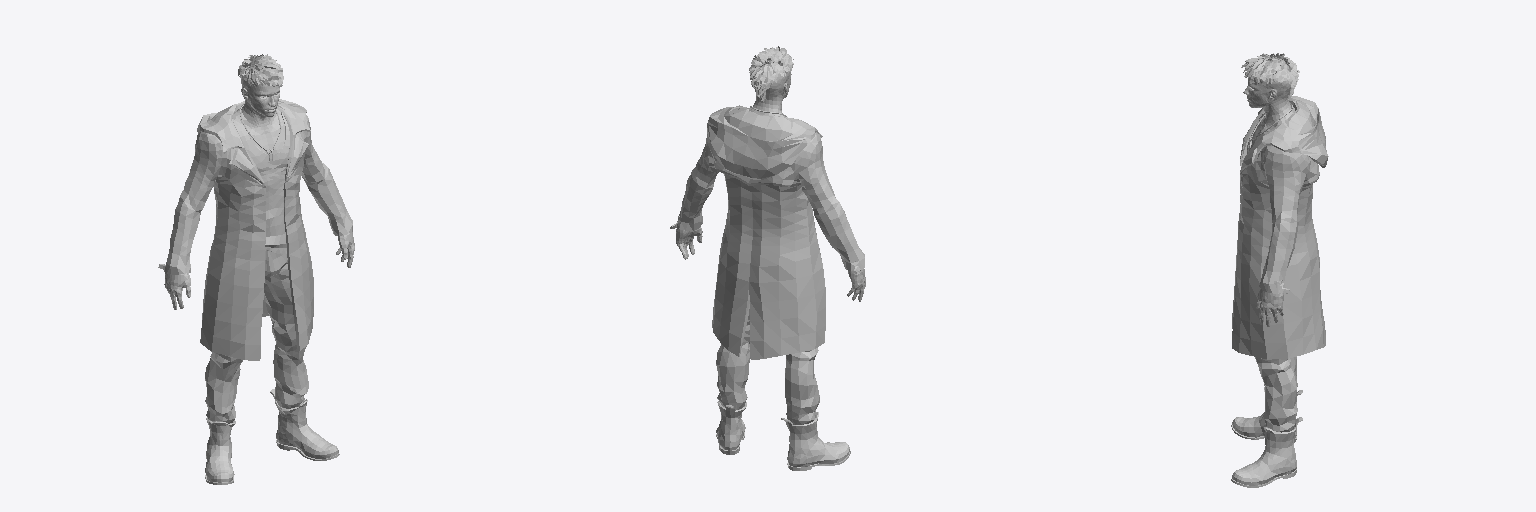
File: Vampire.obj
3 renders of one model, left to right at view 1: azimuth 30°, elevation 25°; view 2: azimuth 150°, elevation 25°; view 3: azimuth 270°, elevation 25°, orthographic.
Visible parts, largest first — view 1: rdmobj01.004, rdmobj02.004, rdmobj00.004, rdmobj04.004, rdmobj07.004, rdmobj03.004; view 2: rdmobj01.004, rdmobj02.004, rdmobj07.004, rdmobj04.004, rdmobj00.004; view 3: rdmobj01.004, rdmobj02.004, rdmobj04.004, rdmobj07.004, rdmobj00.004.
Part boxes in pixels (left/top/right/bottom): rdmobj01.004: left=158, top=99, right=352, bottom=360; rdmobj02.004: left=205, top=250, right=339, bottom=484; rdmobj00.004: left=164, top=104, right=354, bottom=297; rdmobj04.004: left=234, top=66, right=282, bottom=131; rdmobj07.004: left=238, top=54, right=283, bottom=87; rdmobj03.004: left=171, top=109, right=353, bottom=309; rdmobj01.004: left=670, top=105, right=864, bottom=359; rdmobj02.004: left=716, top=309, right=850, bottom=470; rdmobj07.004: left=749, top=46, right=793, bottom=101; rdmobj04.004: left=747, top=73, right=791, bottom=116; rdmobj00.004: left=676, top=106, right=865, bottom=289; rdmobj01.004: left=1232, top=96, right=1328, bottom=359; rdmobj02.004: left=1231, top=357, right=1302, bottom=487; rdmobj04.004: left=1243, top=61, right=1292, bottom=130; rdmobj07.004: left=1241, top=53, right=1299, bottom=98; rdmobj00.004: left=1247, top=102, right=1292, bottom=315.
Size of the model in its own units: 2.89 by 5.95 by 1.3.